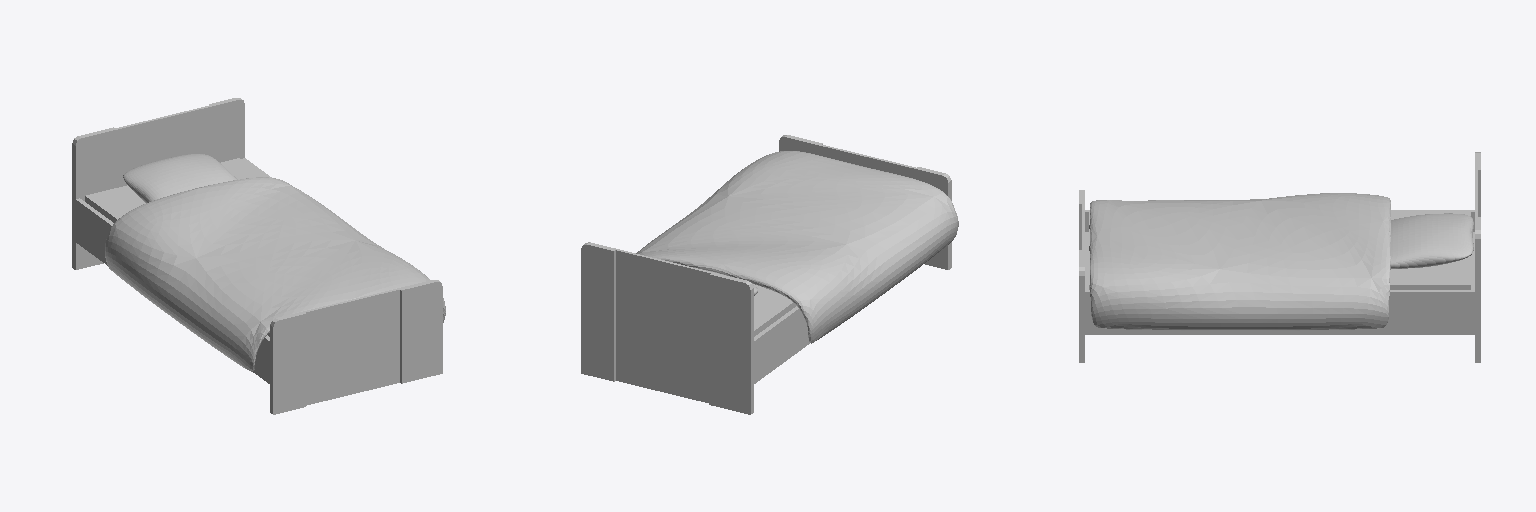
Rendered from single-bed.obj.
3 renders of one model, left to right at view 1: azimuth 30°, elevation 25°; view 2: azimuth 150°, elevation 25°; view 3: azimuth 270°, elevation 25°, orthographic.
Parts seen in each view (by area): view 1: Puff_Cube.002, Simple_bed_Plane.037, Throw_pillow_Cube.005; view 2: Puff_Cube.002, Simple_bed_Plane.037; view 3: Puff_Cube.002, Simple_bed_Plane.037, Throw_pillow_Cube.005.
Boxes of the visible parts, x1=… form: Puff_Cube.002: x1=105, y1=177, x2=445, y2=371; Simple_bed_Plane.037: x1=72, y1=98, x2=442, y2=414; Throw_pillow_Cube.005: x1=123, y1=154, x2=237, y2=202; Puff_Cube.002: x1=636, y1=151, x2=958, y2=343; Simple_bed_Plane.037: x1=581, y1=135, x2=951, y2=414; Puff_Cube.002: x1=1089, y1=193, x2=1390, y2=330; Simple_bed_Plane.037: x1=1079, y1=152, x2=1480, y2=362; Throw_pillow_Cube.005: x1=1391, y1=213, x2=1473, y2=268.
Bounding box in the file's own units: 1.15 × 0.6997 × 1.95.